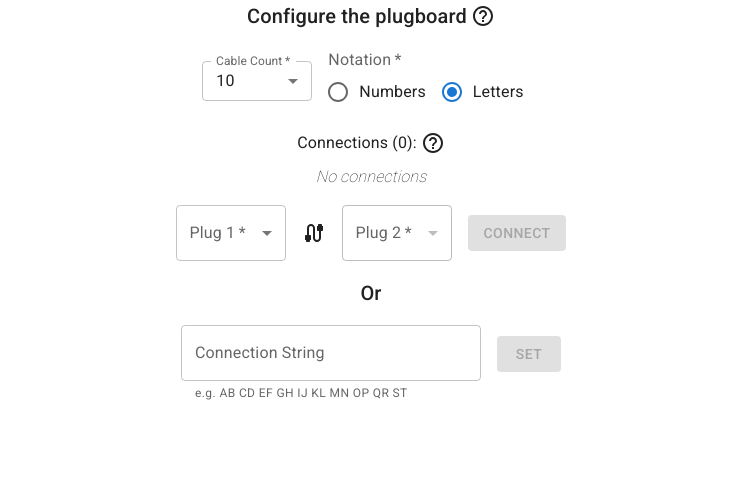
Scenario: EnigmaPlugboard › Cable tests › Connection string test - letters
In the field labelled "Connection String": (331, 353) [181,325,481,381], type "AV BS CG DL FU HZ IN KM OW RX"
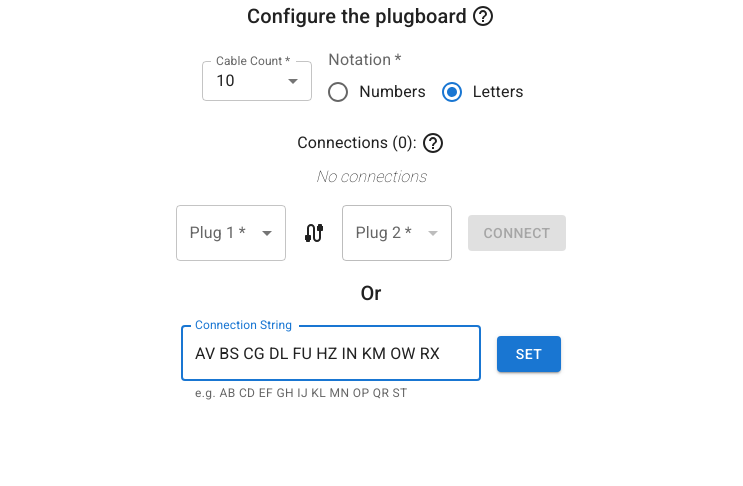
Expected: the button "Set" is enabled
Click the button "Set": (529, 354) [497,336,561,372]
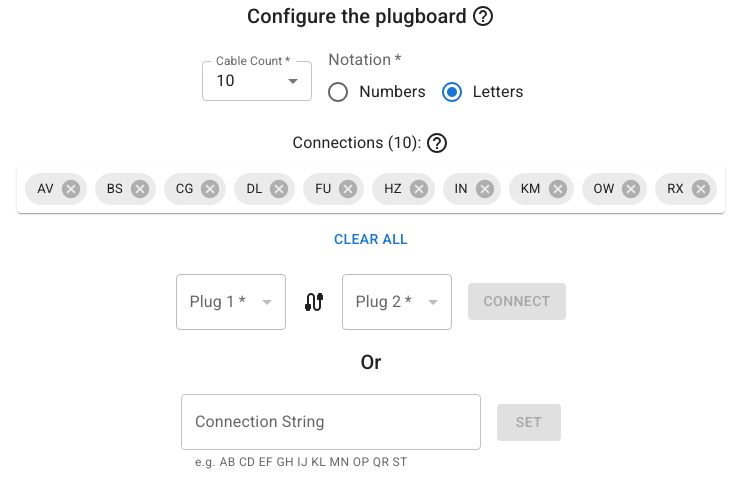
Expected: the button "AV" is shown, [25,173,87,205]
Expected: the button "BS" is shown, [95,173,156,205]
Expected: the button "CG" is shown, [164,173,226,205]
